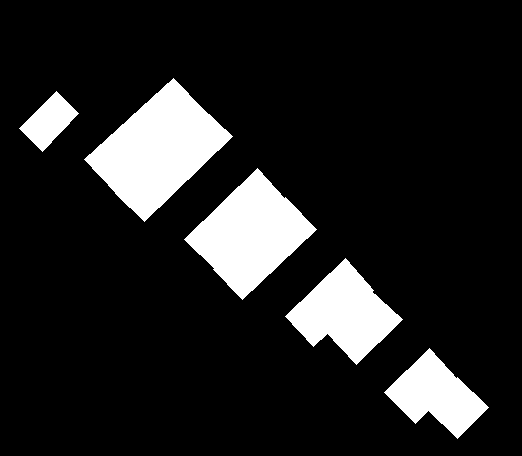parkingspot: (84, 78, 203, 193), (115, 107, 232, 221), (213, 197, 316, 299), (184, 168, 285, 270), (285, 258, 373, 346), (326, 289, 402, 364), (384, 348, 458, 423), (427, 377, 488, 438), (19, 91, 78, 151)
